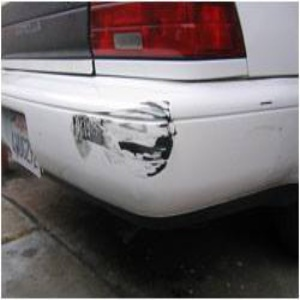bumper_scratch: (66, 97, 184, 188)
